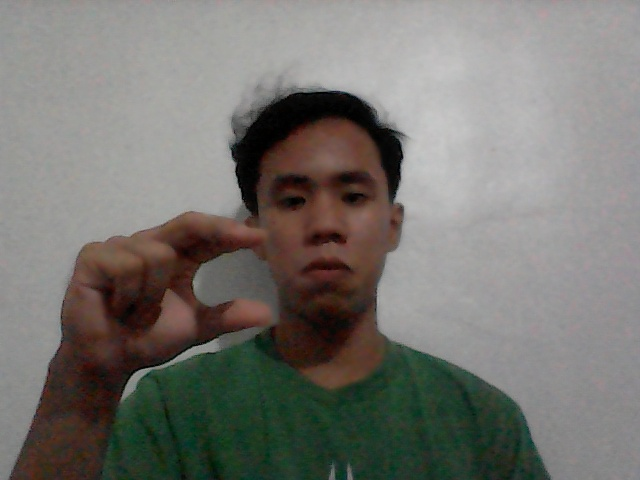No: (34, 179, 296, 392)
